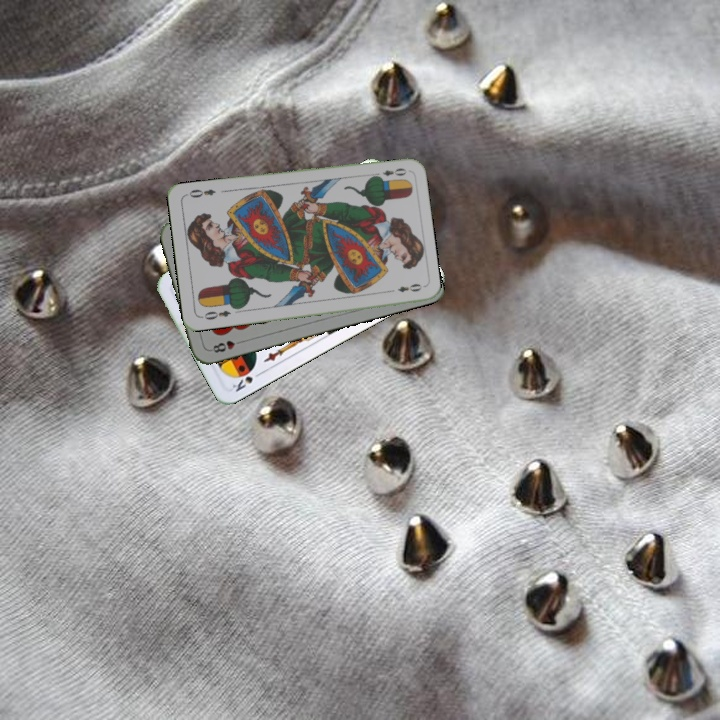EO: (369, 164, 409, 181), (197, 306, 233, 323)
H8: (206, 336, 246, 355)
SK: (228, 364, 265, 395)
